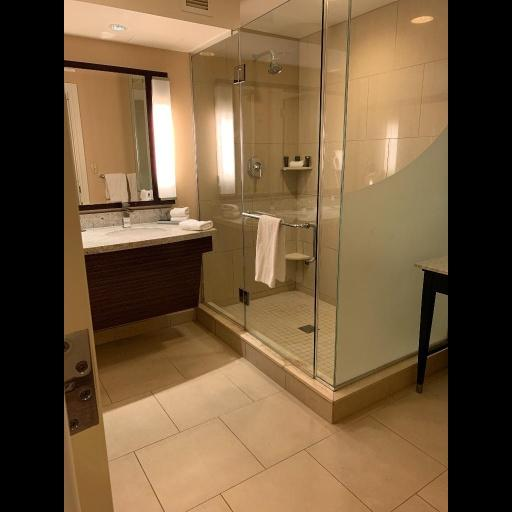clean_floor: (100, 318, 447, 511)
clean_sink: (81, 200, 213, 332)
folded_towel: (256, 209, 292, 290), (164, 205, 199, 222), (178, 218, 215, 234)
